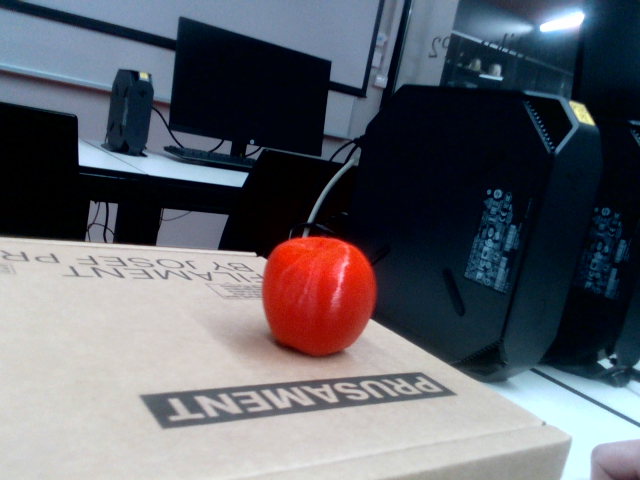Crvena jabuka: (263, 236, 376, 355)
